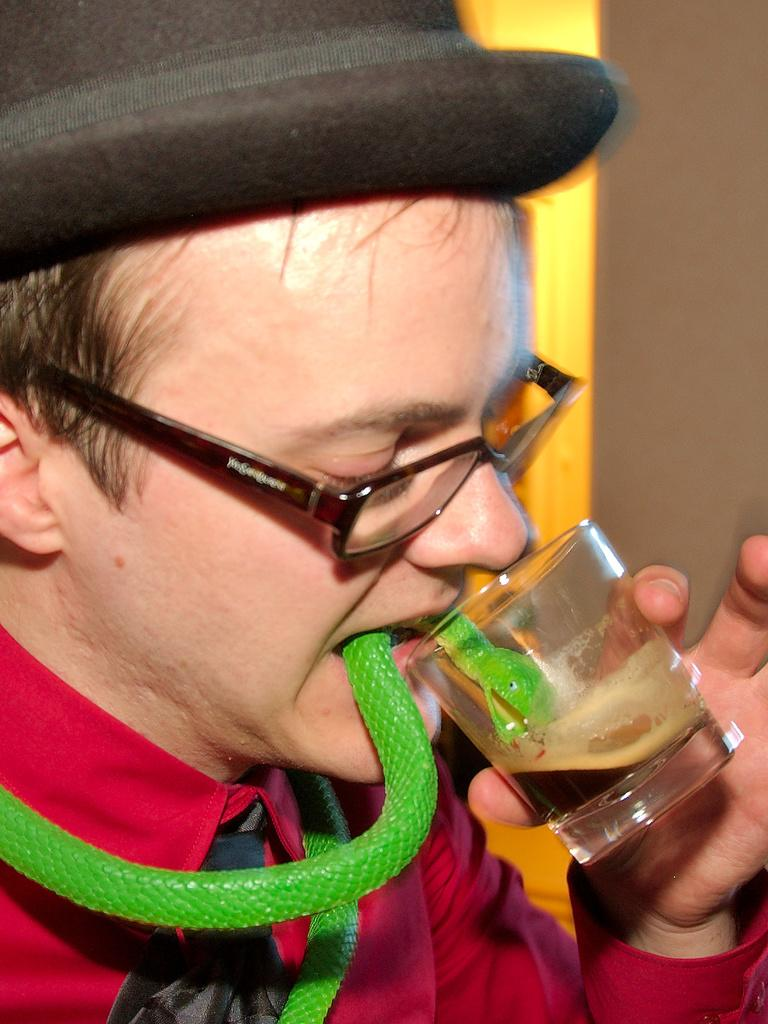Hat: (0, 0, 627, 289)
